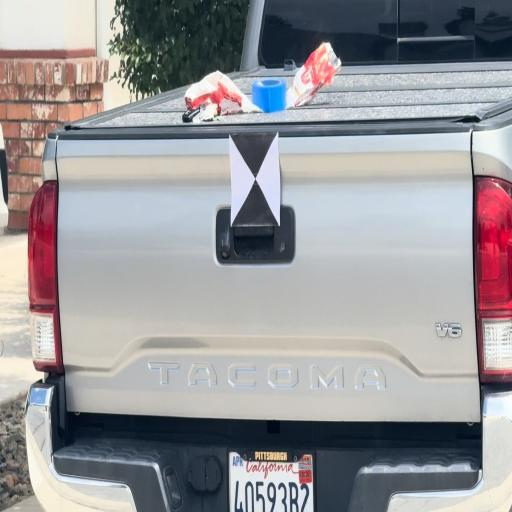target: (232, 134, 280, 226)
